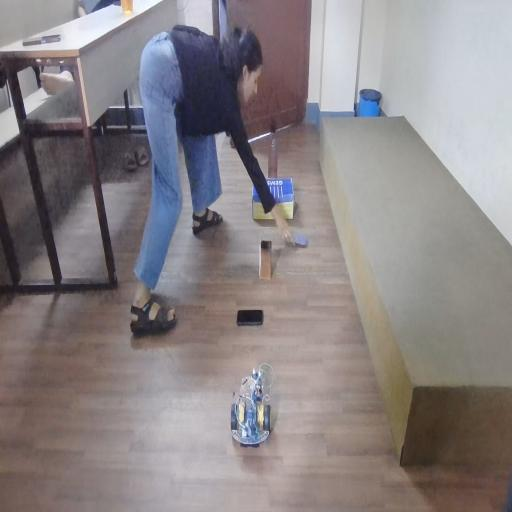Bottle: (267, 118, 291, 177)
car: (227, 351, 287, 476)
